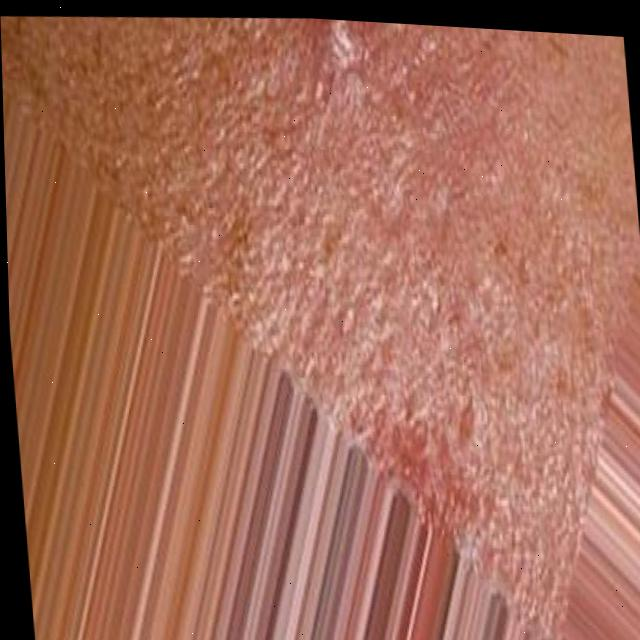Rosacea: (308, 18, 541, 532)
